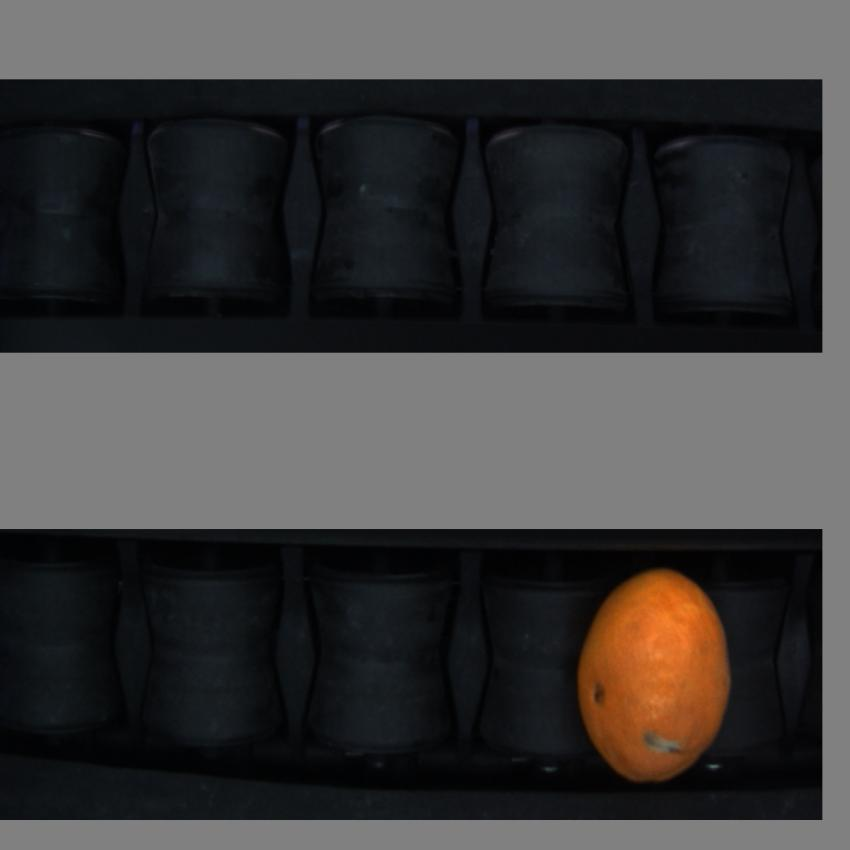Buen estado: (572, 558, 730, 791)
